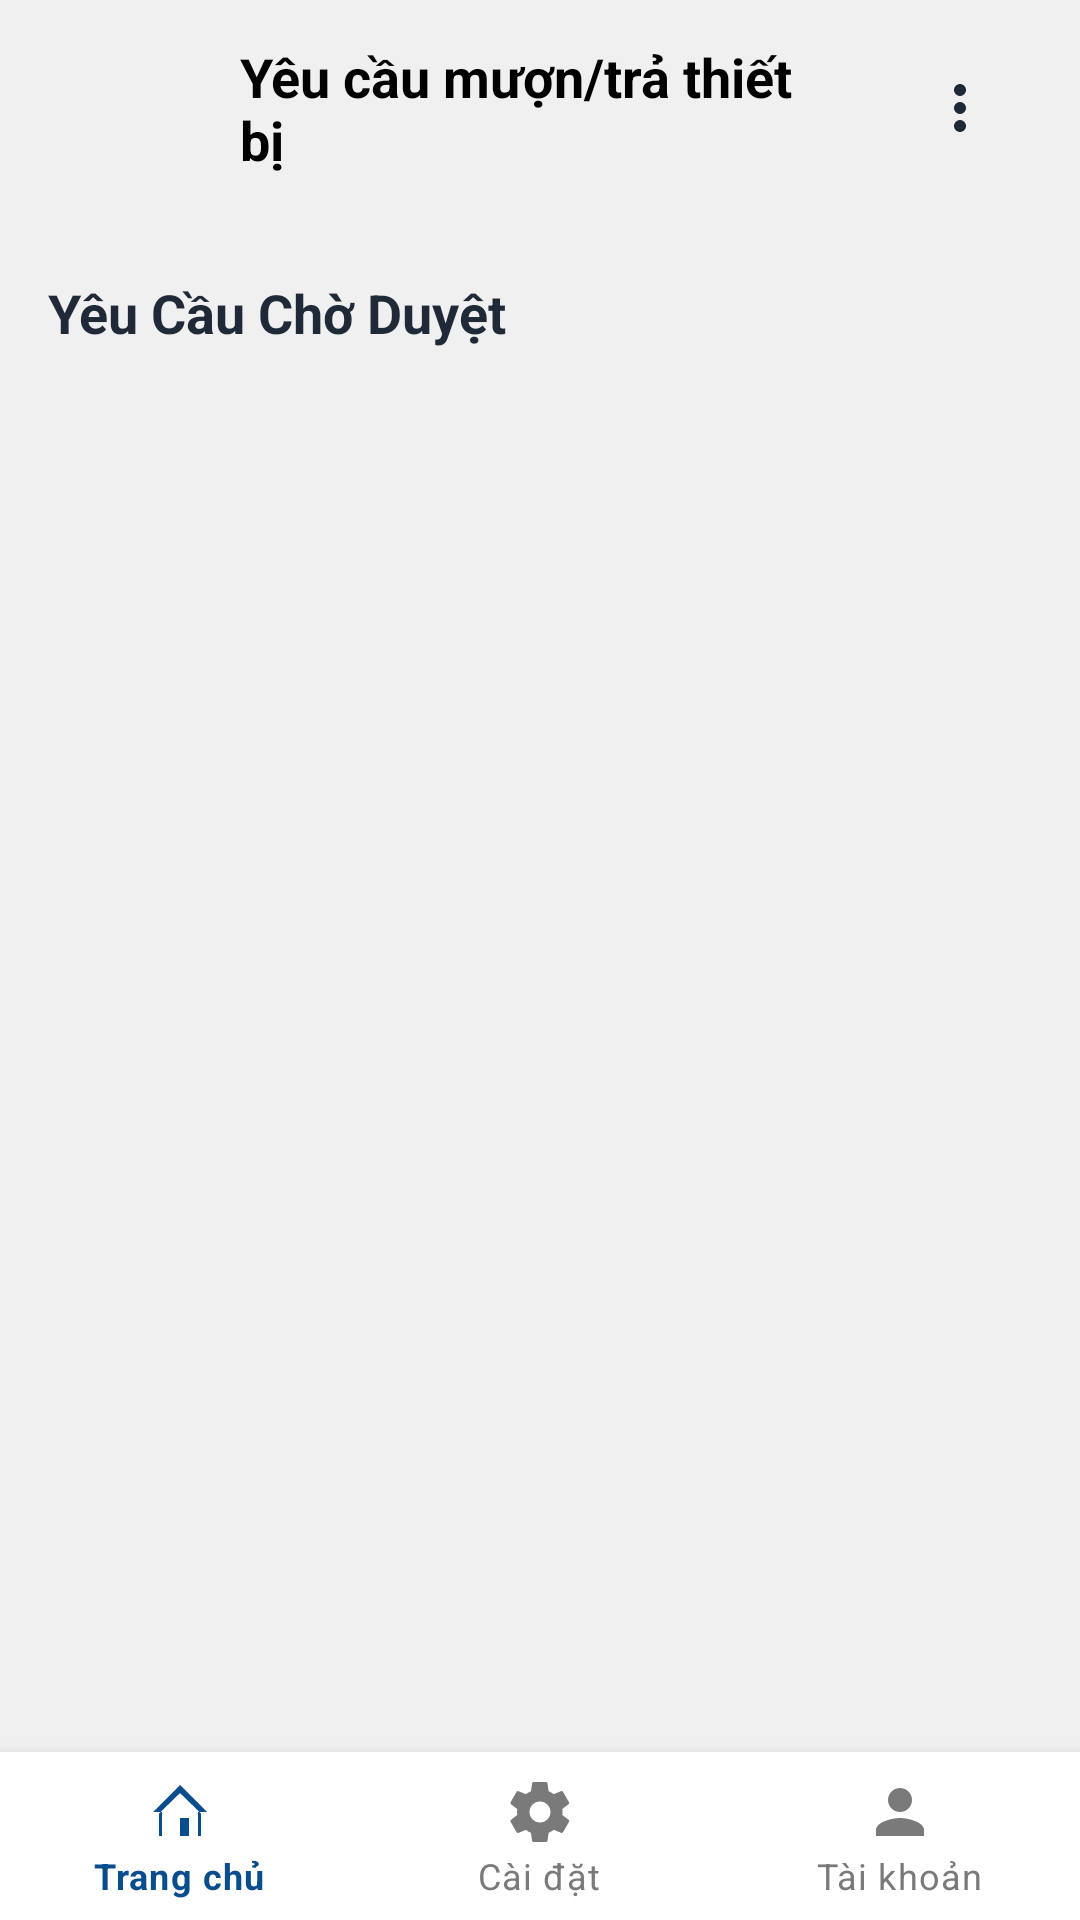

Icon bounding boxes for this 1080px×1920px phone screenshot, format (x1, y1, x2, y2):
Tùy chọn menu: (954, 84, 966, 132)
